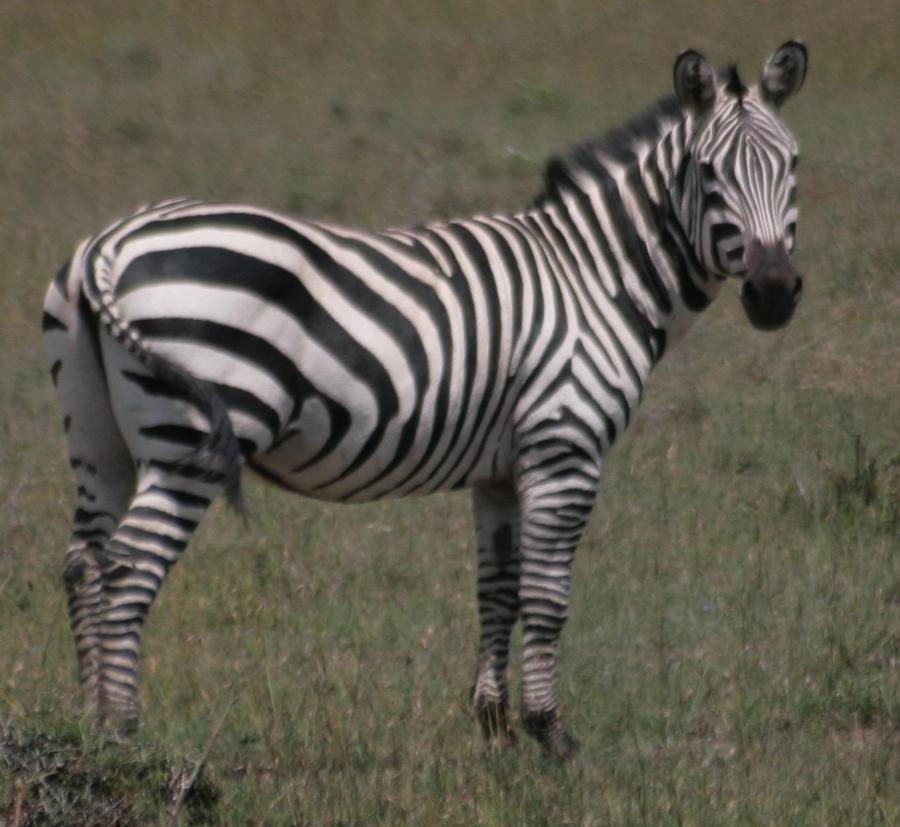zebra_plains: (92, 164, 658, 534)
